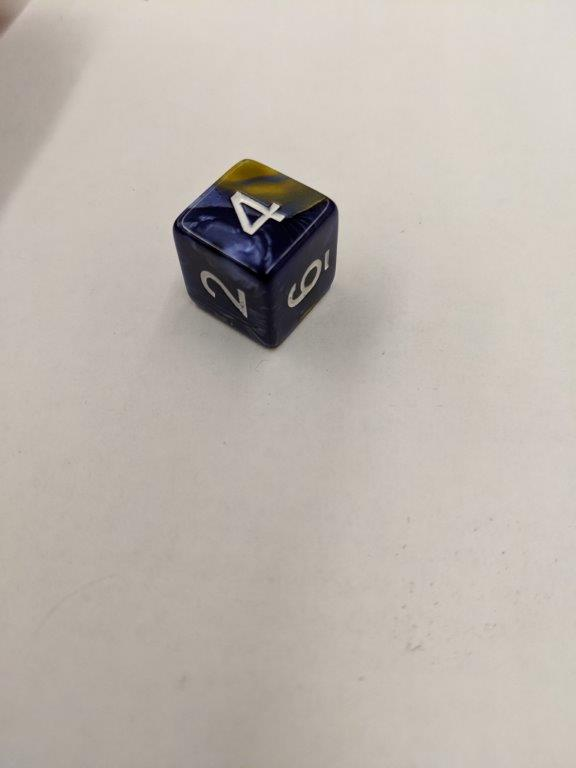d6-4: (172, 156, 338, 348)
